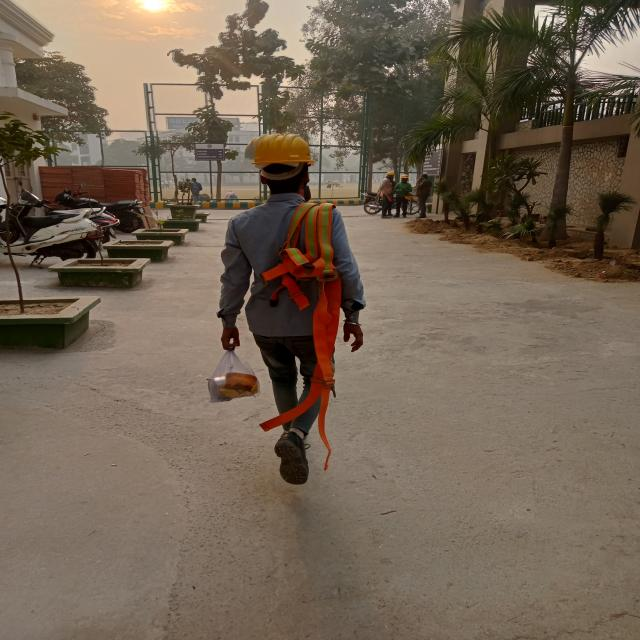no jacket: (221, 130, 368, 484), (378, 171, 397, 218), (397, 174, 412, 218)
unsafe: (415, 173, 431, 218), (190, 177, 203, 204)
